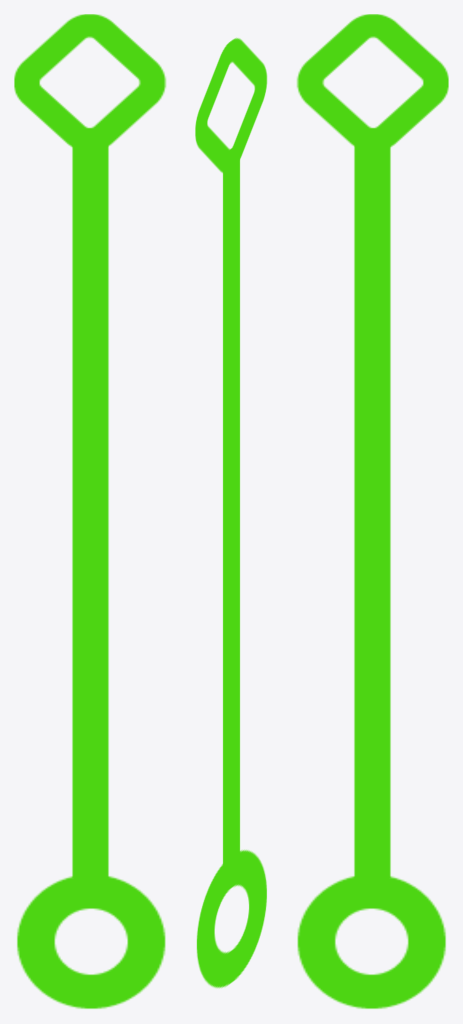
File: 10_2_cl_active.glb
The picture shows the model from 3 angles, left to right: view 1: azimuth 90°, elevation 25°; view 2: azimuth 150°, elevation 25°; view 3: azimuth 270°, elevation 25°; orthographic projection. The views are drawn at different scales.
Visible parts, largest first — view 1: 10_2_cl_active; view 2: 10_2_cl_active; view 3: 10_2_cl_active.
Boxes of the visible parts, <box> form: 10_2_cl_active: <box>14,14,165,1008</box>; 10_2_cl_active: <box>195,38,267,988</box>; 10_2_cl_active: <box>297,14,448,1008</box>.
Bounding box in the file's own units: 4.91e-07 × 2.39 × 0.3315.
Materials: 1 (1 with a texture image).
